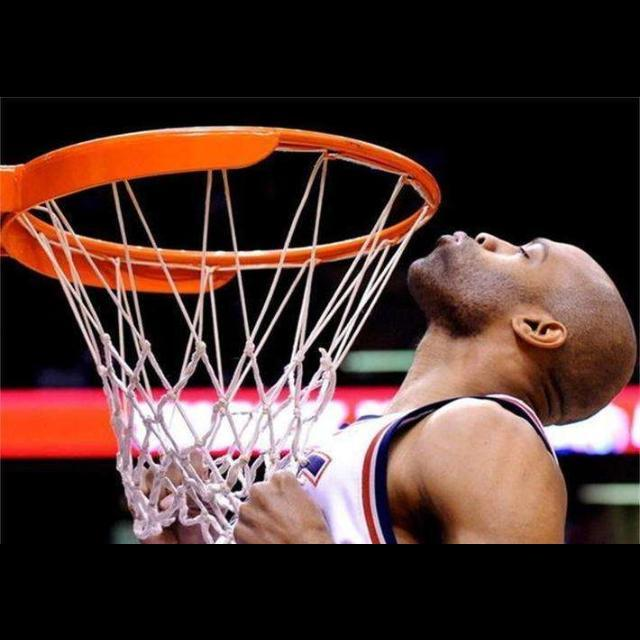rim: (13, 125, 439, 543)
